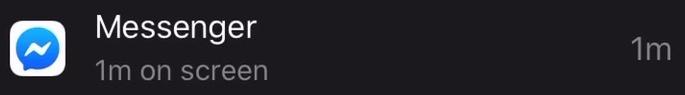name: (85, 1, 265, 49)
time: (91, 52, 139, 92)
